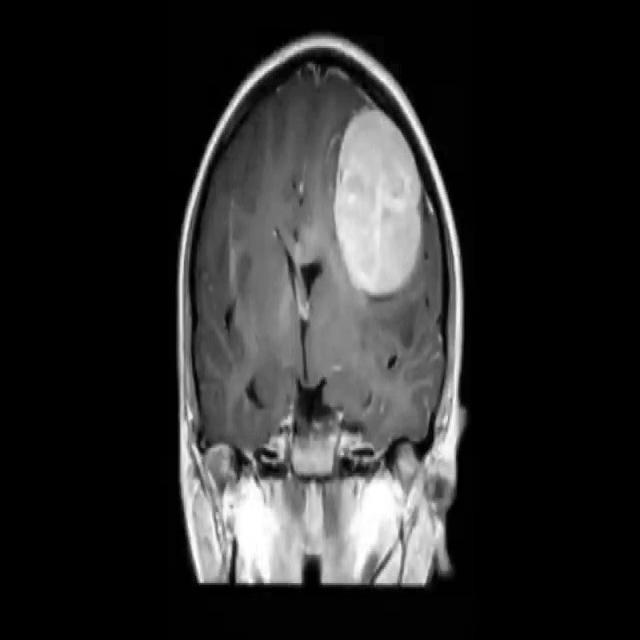tumor: (326, 80, 438, 301)
